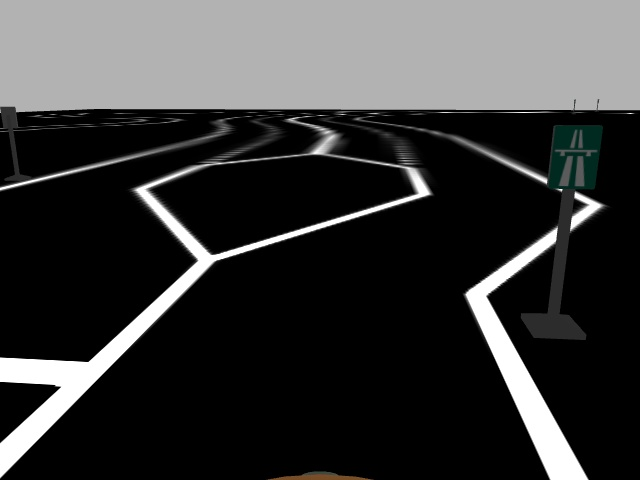enter_highway: (545, 124, 603, 189)
